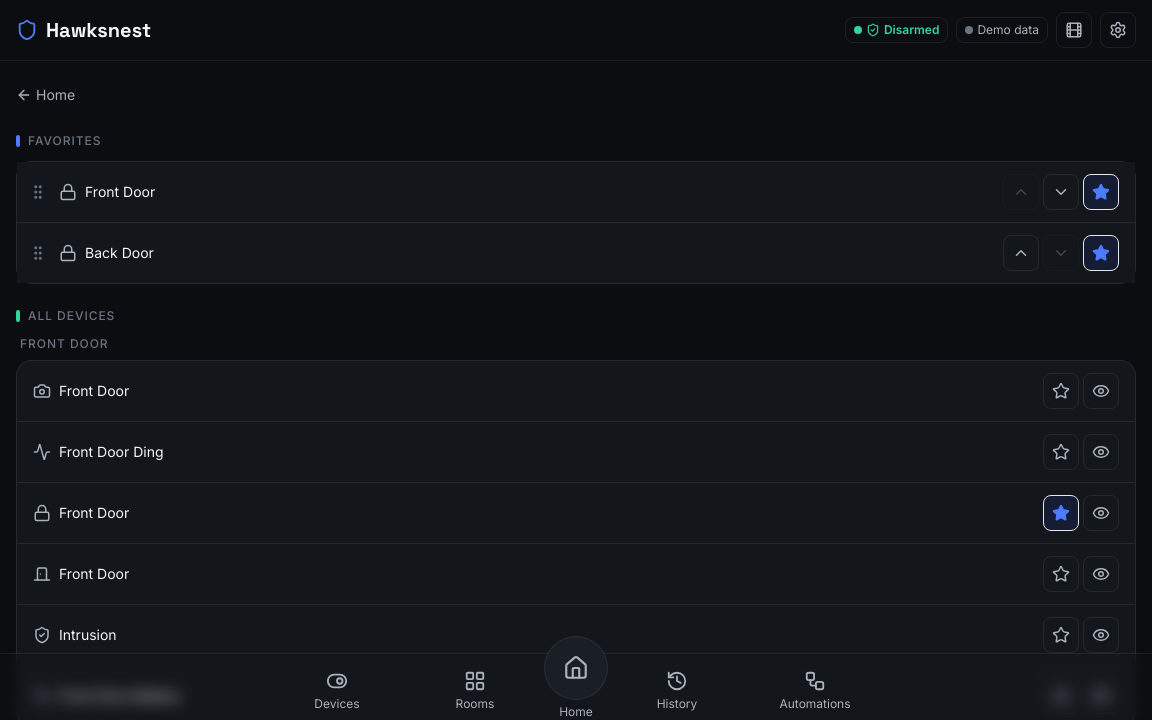
Test: Customize › pins a previously-unpinned device from the catalog
Expected: the text "All devices" is shown, [28,308,115,324]
Click the 1st button named "Pin to Home".
click(1061, 391)  # box [1043,373,1079,409]
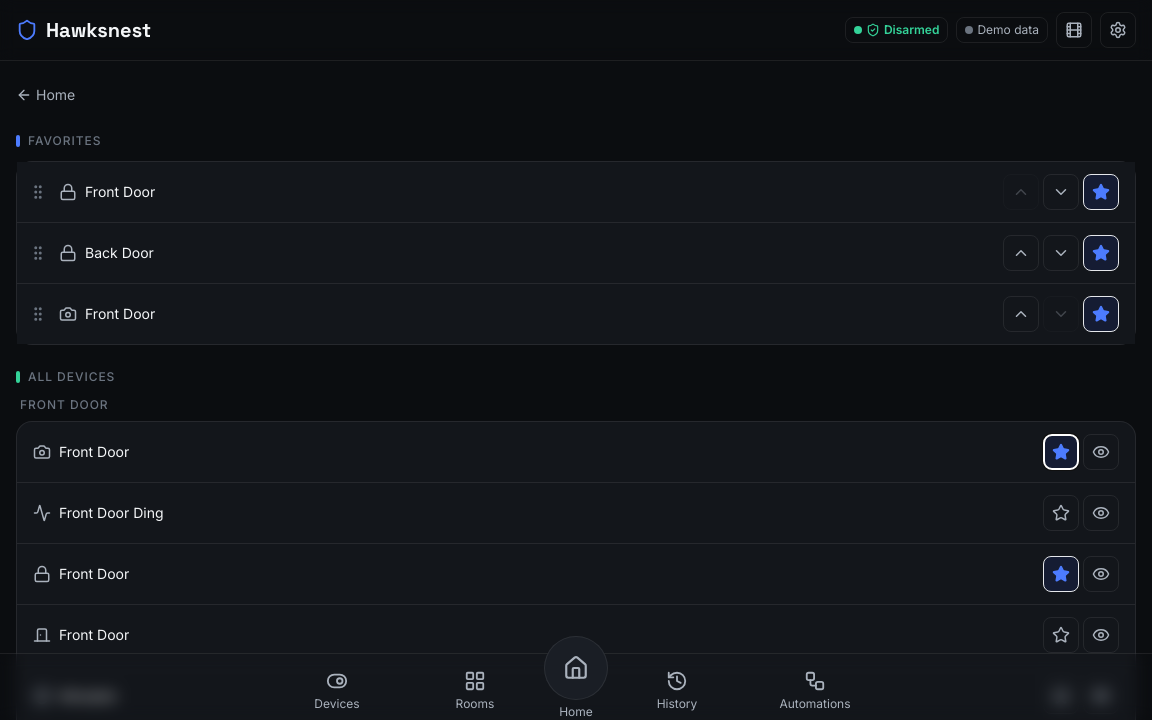
Result: the number of buttons named "Pin to Home" is 19
